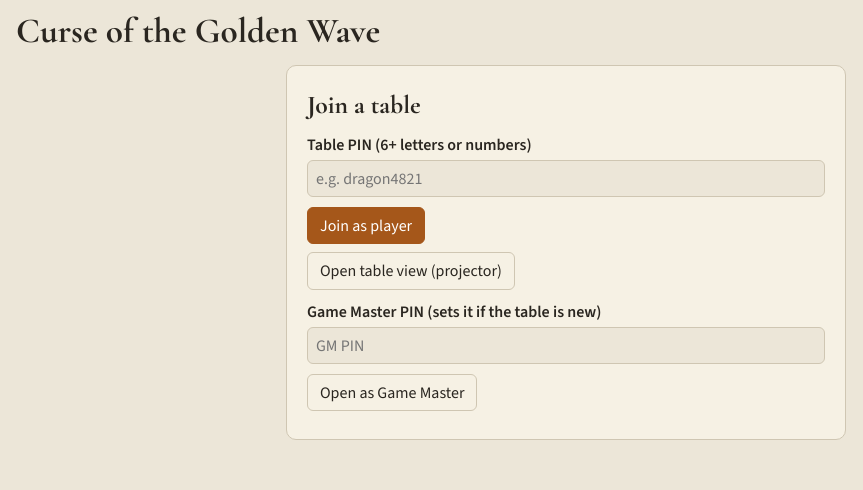
Test: <Game /> joining › shows connection problems while joining
This screenshot has width=863, height=490.
Step 1. Type "dragon42" into the field labelled "Table PIN (6+ letters or numbers)" → (566, 179), box [307,160,825,197]
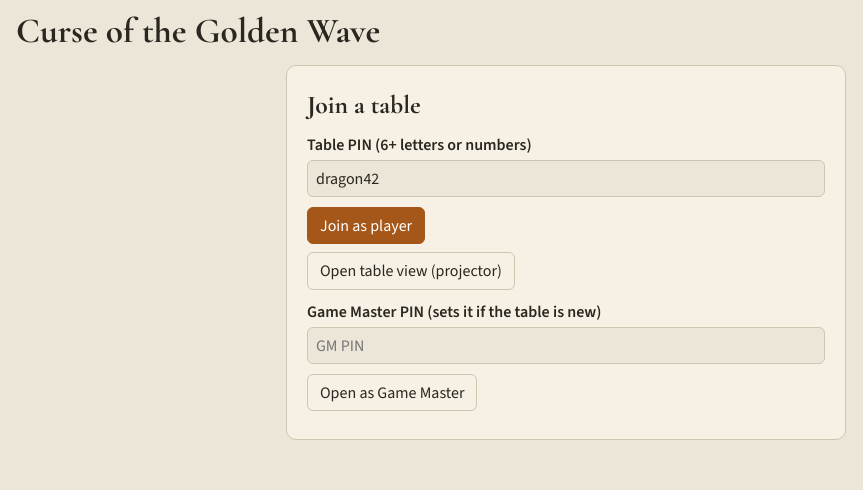
Step 2. Click the button "Join as player" → (366, 226), box [307,207,425,244]
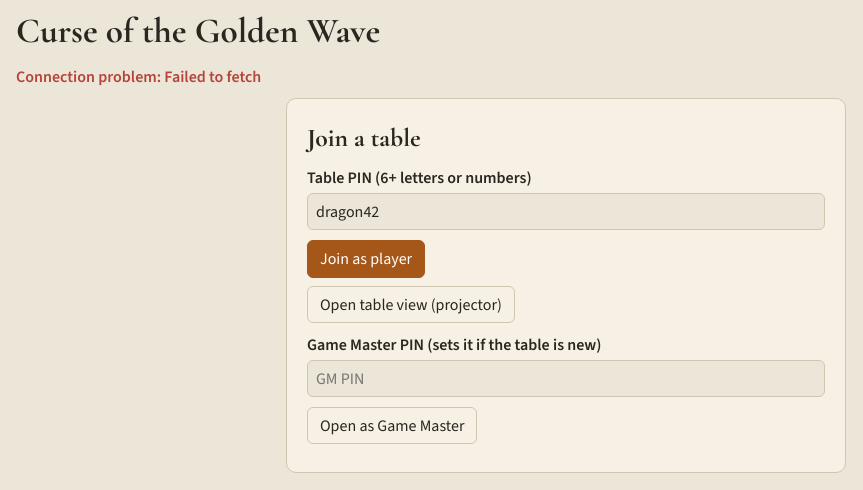
Result: the text "Connection problem: Failed to fetch" is shown at [16,66,261,87]
